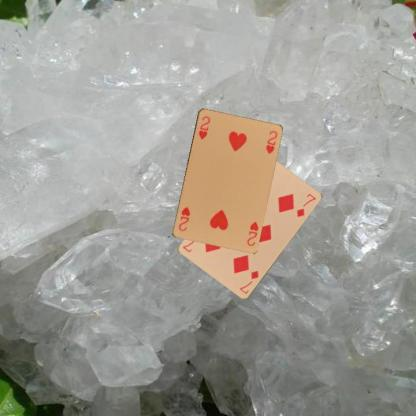2h: (244, 218, 260, 247), (196, 114, 211, 140)
7d: (237, 268, 260, 295)
